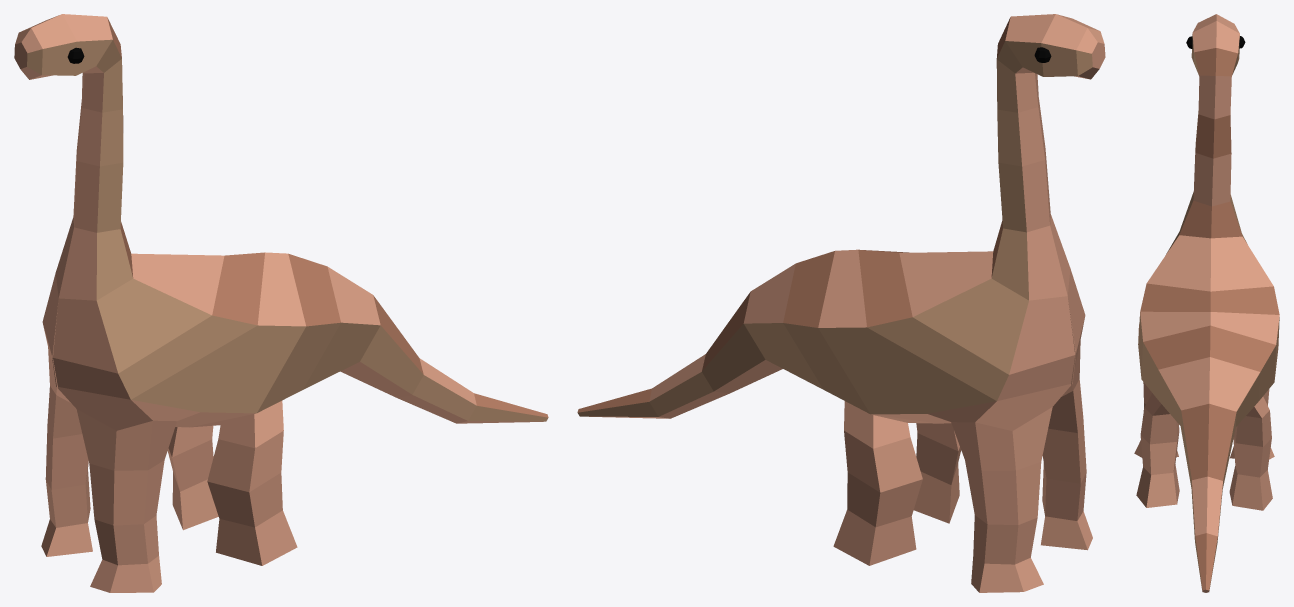
Rendered from Brachiosaurus.fbx.
3 views of the same model, side by side, from view 1: azimuth 30°, elevation 25°; view 2: azimuth 150°, elevation 25°; view 3: azimuth 270°, elevation 25° (orthographic). The views are drawn at different scales.
Visible parts, largest first — view 1: Sphere.003; view 2: Sphere.003; view 3: Sphere.003.
Boxes of the visible parts, x1,y1,x2,y2 form: Sphere.003: (14,14,548,592); Sphere.003: (577,14,1105,592); Sphere.003: (1134,14,1279,592).
Bounding box in the file's own units: 338 × 344 × 107.
